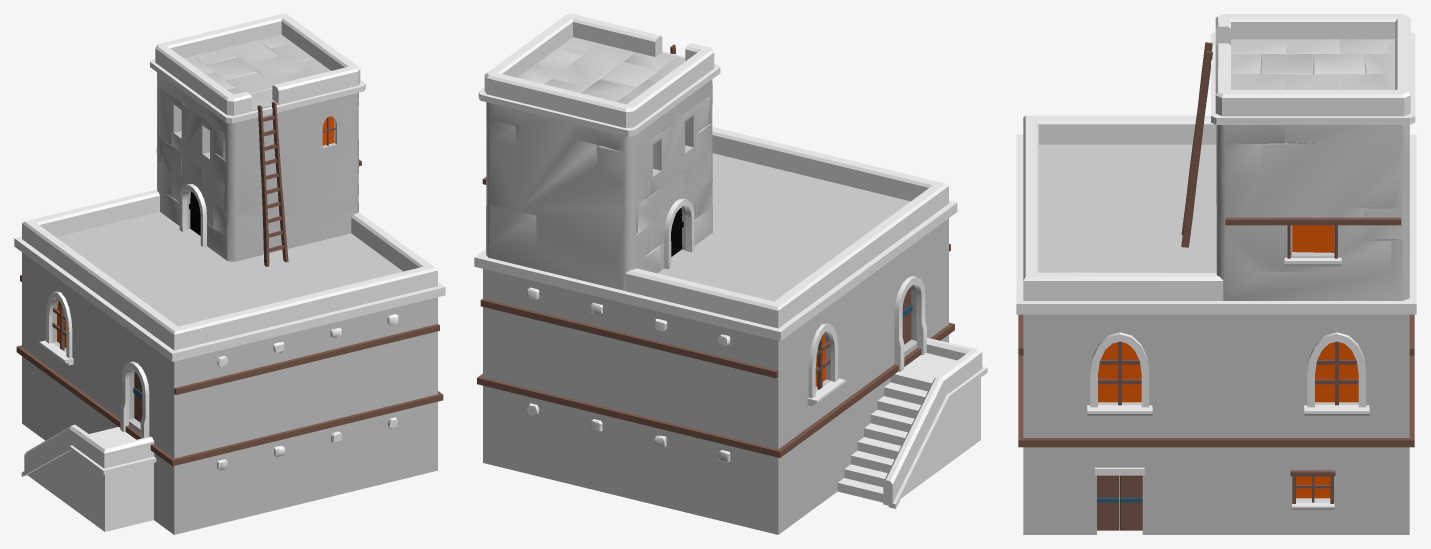
Rendered from civilian_house_13.FBX.
3 views of the same model, side by side, from view 1: azimuth 30°, elevation 25°; view 2: azimuth 150°, elevation 25°; view 3: azimuth 270°, elevation 25° (orthographic). The views are drawn at different scales.
Parts seen in each view (by area): view 1: civilian_house_13_LOD0; view 2: civilian_house_13_LOD0; view 3: civilian_house_13_LOD0.
Part boxes in pixels (x1,y1,x2,y2): civilian_house_13_LOD0: (14,14,445,534); civilian_house_13_LOD0: (474,14,987,534); civilian_house_13_LOD0: (1016,14,1416,534).
Size of what is drawn, in the model's own units: 1856 by 1896 by 1555.
